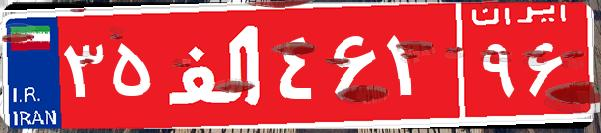1: (385, 28, 445, 110)
3: (57, 26, 110, 107)
4: (273, 28, 330, 110)
5: (110, 28, 158, 105)
6: (330, 28, 385, 110), (525, 38, 570, 115)
9: (475, 38, 525, 113)
الف: (158, 15, 273, 115)
